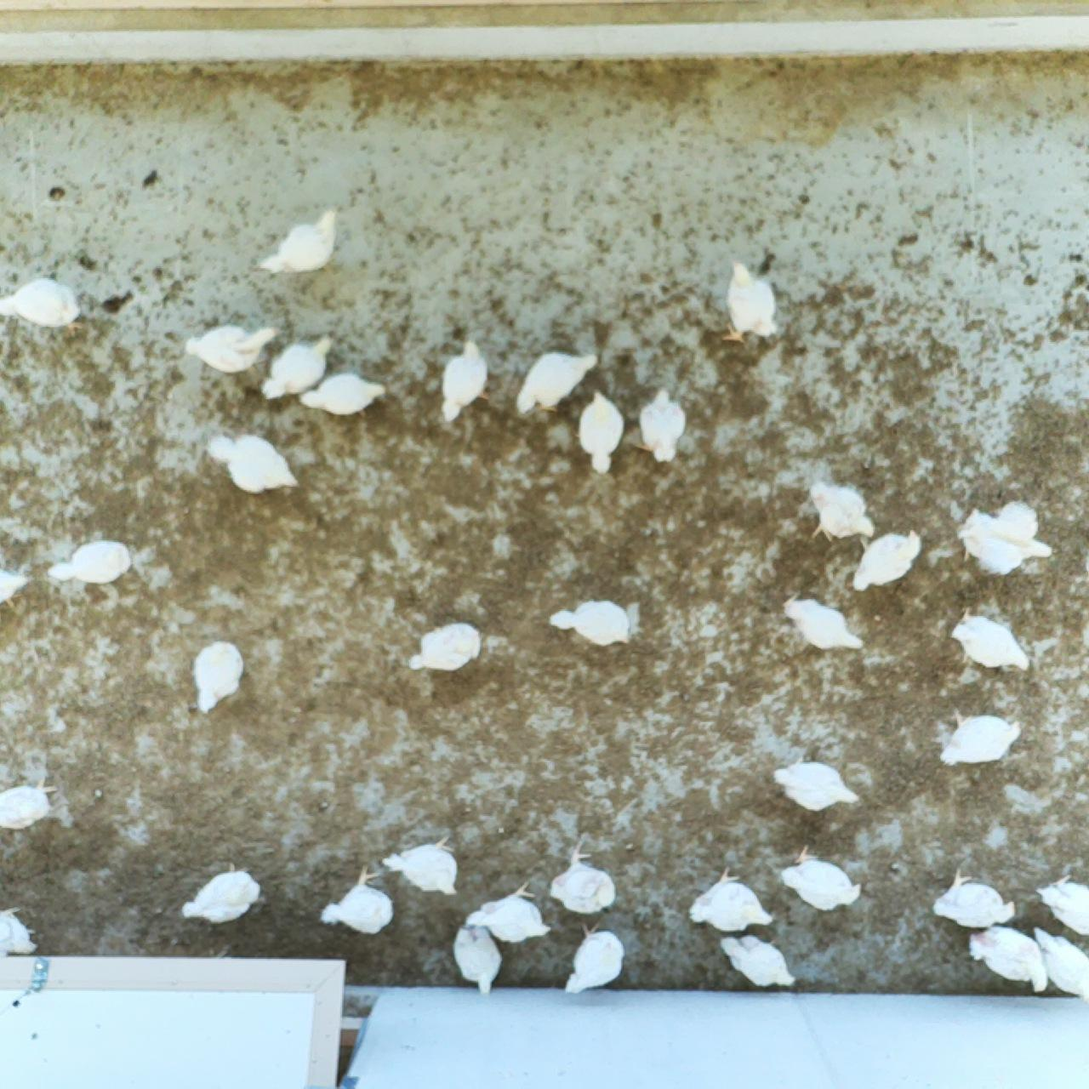chicken: (954, 496, 1055, 579), (511, 345, 601, 422), (253, 205, 344, 279), (687, 863, 777, 936), (206, 430, 302, 498), (310, 864, 398, 935), (967, 921, 1051, 995), (778, 587, 868, 655), (461, 880, 554, 945), (771, 751, 864, 816), (930, 865, 1020, 931), (937, 704, 1026, 770), (779, 845, 864, 914), (948, 604, 1032, 673), (177, 860, 263, 927), (429, 337, 495, 424), (256, 332, 338, 402), (547, 838, 621, 914), (380, 830, 462, 898), (800, 474, 878, 545), (182, 323, 282, 378), (561, 917, 629, 997), (849, 525, 927, 594), (545, 594, 637, 652), (720, 258, 781, 344), (295, 369, 388, 421), (406, 619, 485, 680), (719, 932, 801, 990), (631, 386, 689, 467), (576, 385, 627, 476), (1031, 922, 1089, 1002), (0, 276, 83, 331), (190, 636, 247, 716), (45, 537, 136, 586), (452, 922, 506, 999), (1032, 872, 1089, 937), (0, 773, 60, 833), (0, 902, 40, 959), (0, 566, 30, 608)
